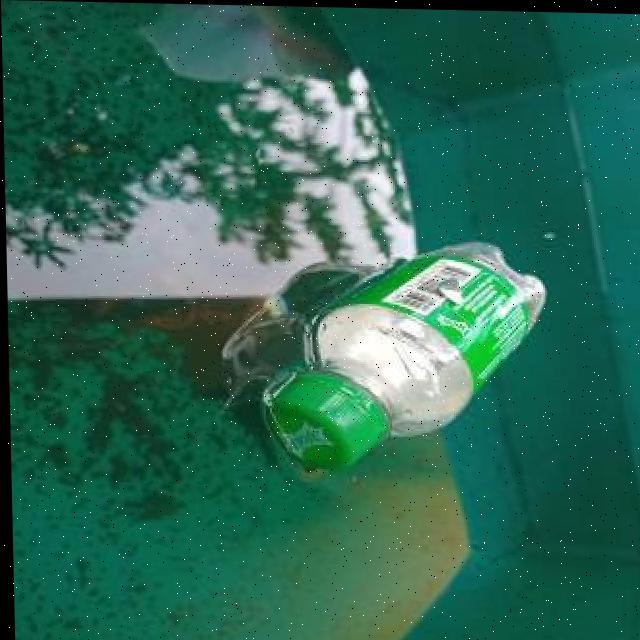bottle: (257, 233, 551, 476)
